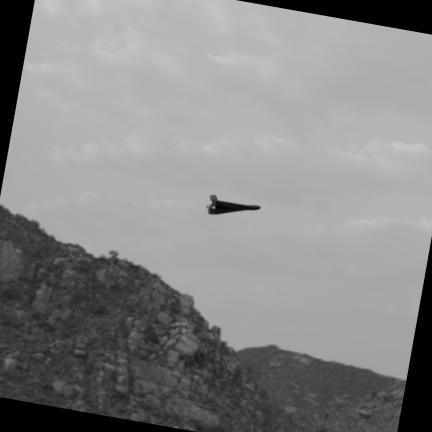Shahed: (208, 195, 260, 214)
